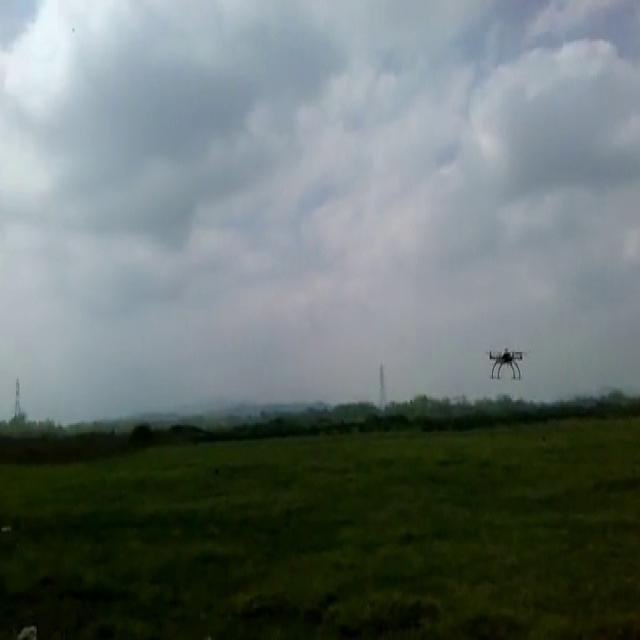drone: (487, 345, 525, 384)
